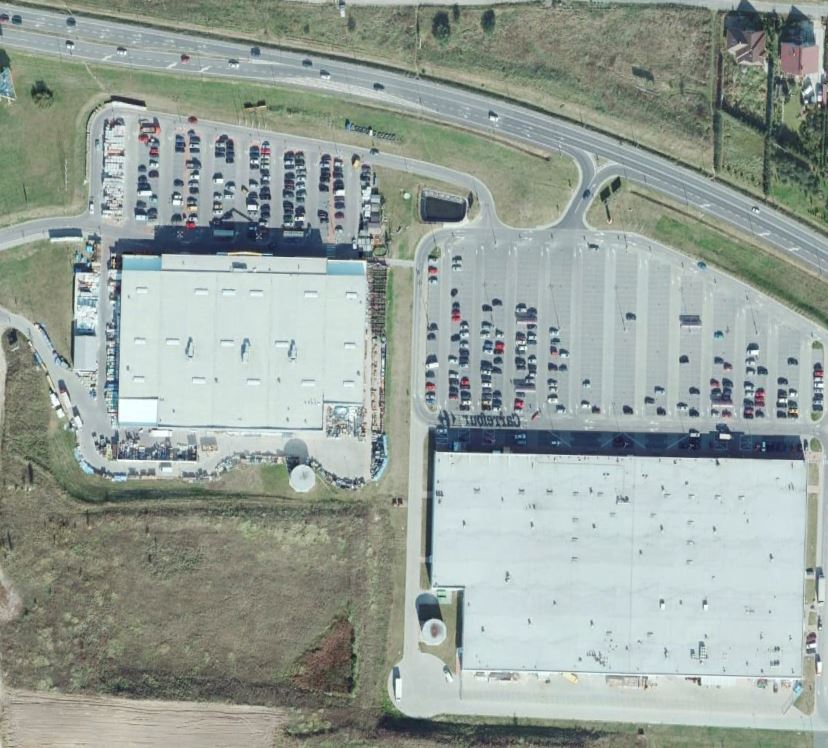shopping_center: (414, 448, 819, 683), (115, 250, 374, 433)
